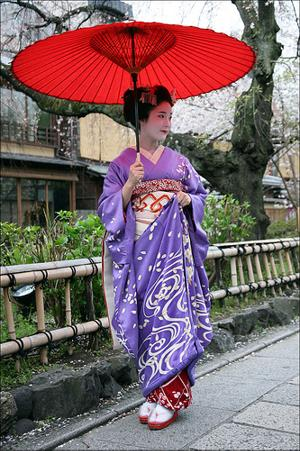person: (98, 86, 215, 433)
